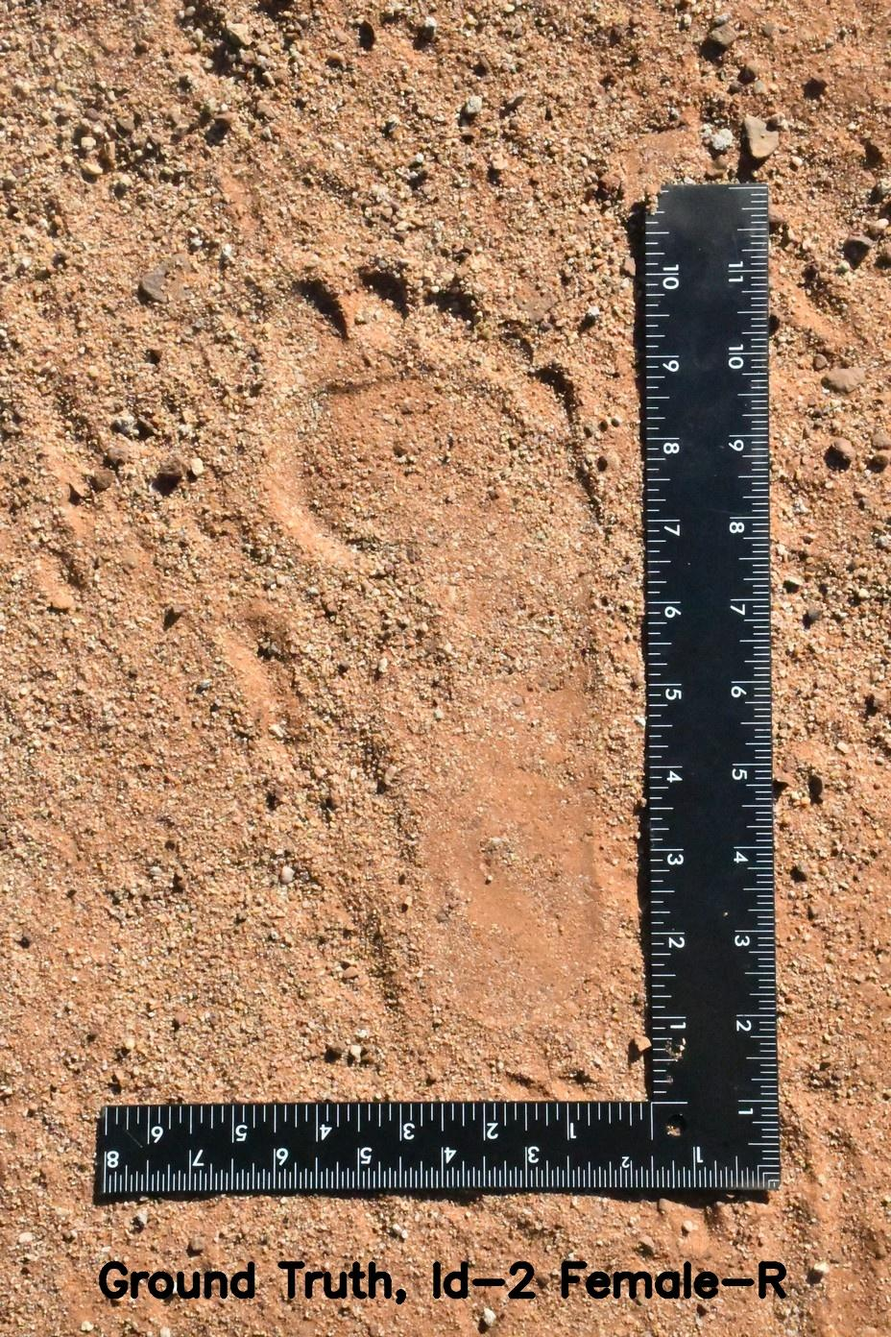human_footprint: (251, 215, 640, 1085)
